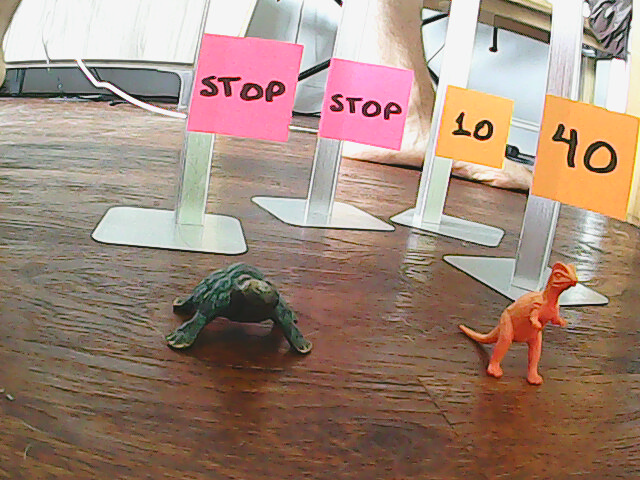10: (448, 93, 501, 164)
40: (541, 110, 626, 199)
dinosaur: (455, 253, 584, 391)
stop: (197, 45, 291, 125), (327, 72, 407, 130)
turtle: (161, 260, 323, 361)
